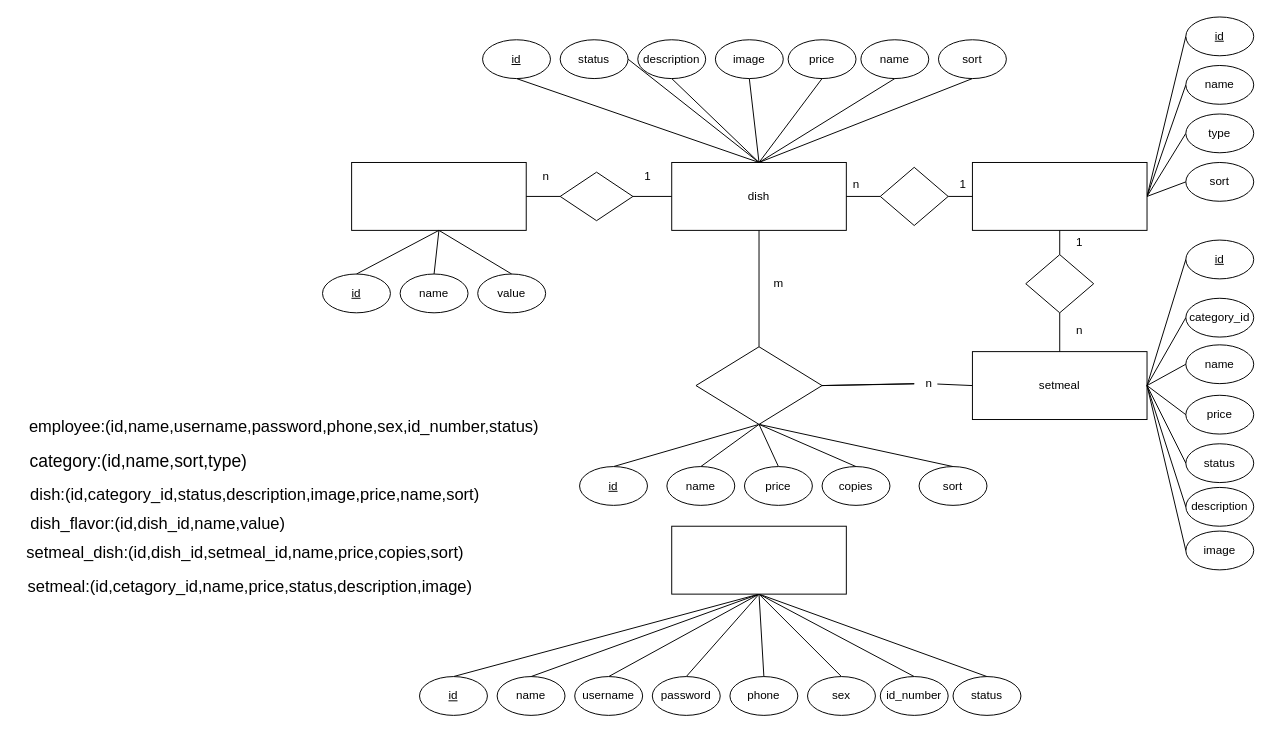
The diagram is 1271 pixels wide and 732 high, and some of its shapes have lost their labels. The centre of each missing label's shape, as x and y in pixels:
"category" belongs at (x=1059, y=196).
"dish_flavor" belongs at (x=438, y=196).
"employee" belongs at (x=758, y=559).
"setmeal_dish" belongs at (x=758, y=385).
"口味" belongs at (x=596, y=196).
"种类1" belongs at (x=913, y=196).
"种类2" belongs at (x=1059, y=283).
